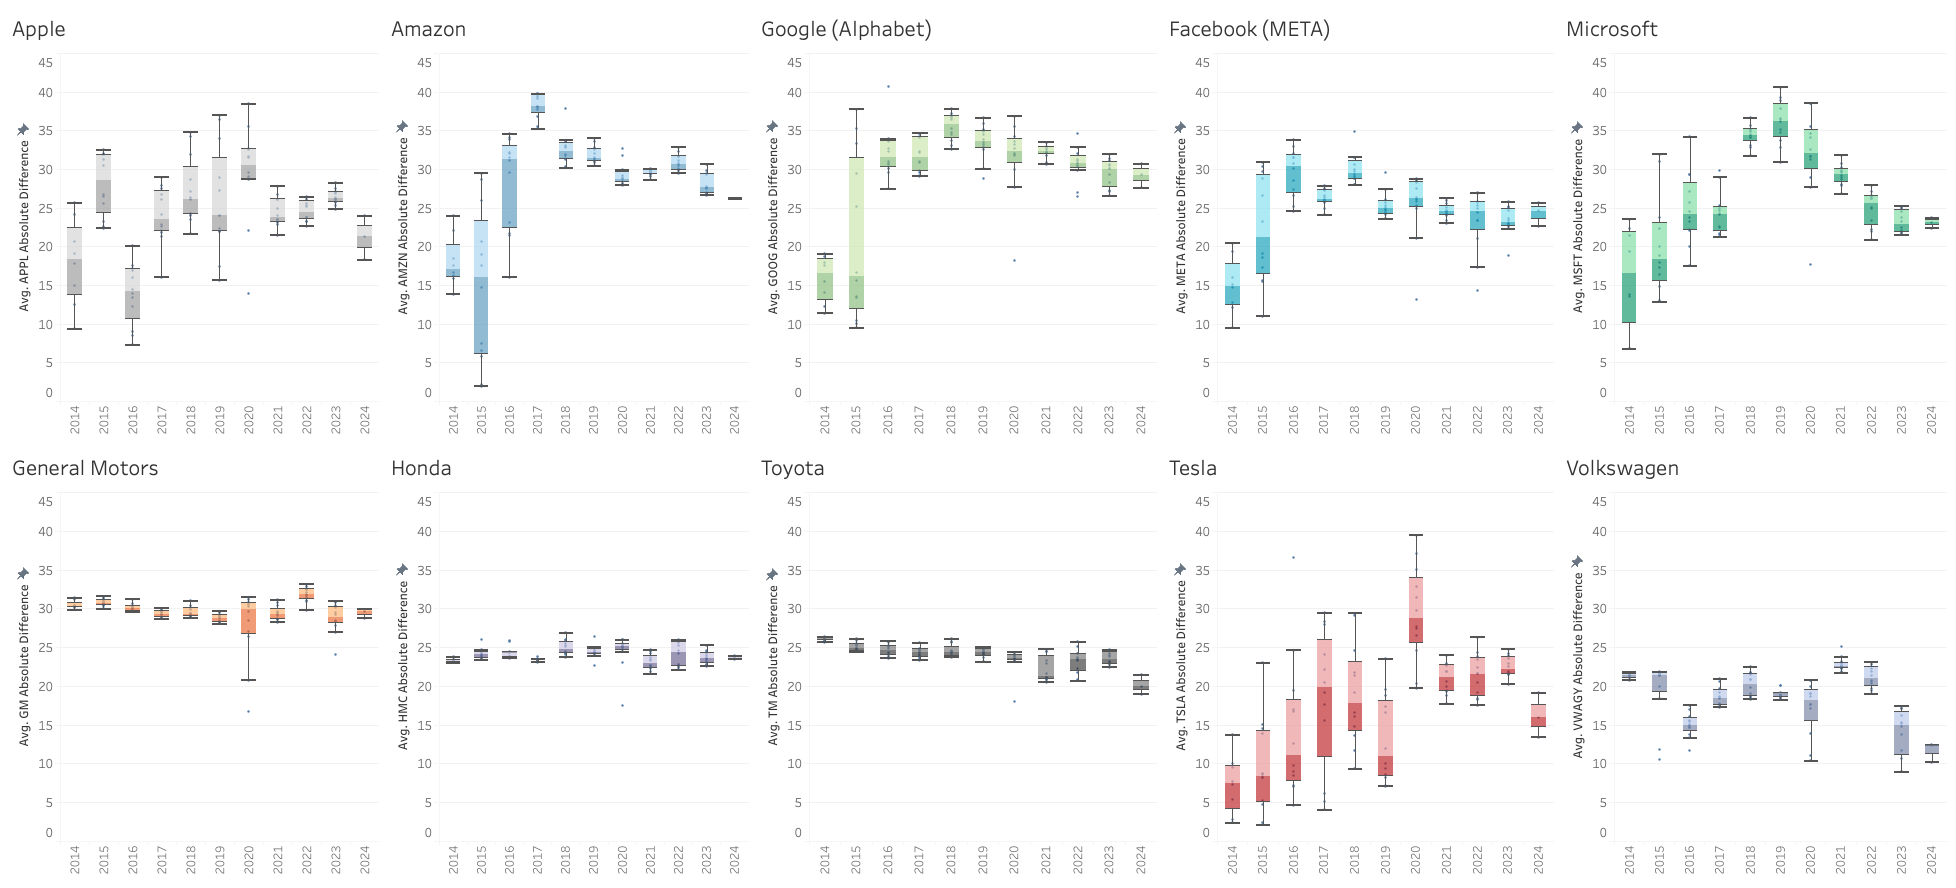

This screenshot's page, from the dashboard's own definition file:
{"tool":"tableau","page":{"name":"Dashboard 1","canvas":[1000,1000],"units":"permille","ordinal":0},"visuals":[{"type":"worksheet","title":"Apple","mark":"Circle","rows":["Calculation_1771744257438670848"],"cols":["date"],"box":[4.1,8.9,193.1,491.1]},{"type":"worksheet","title":"Amazon","mark":"Circle","rows":["Calculation_1771744257711570946"],"cols":["date (AMZN_predicted_data.csv)"],"box":[197.1,8.9,188.5,491.1]},{"type":"worksheet","title":"Google (Alphabet)","mark":"Circle","rows":["Calculation_1771744257744744452"],"cols":["date (GOOG_predicted_data.csv)"],"box":[385.6,8.9,207.8,491.1]},{"type":"worksheet","title":"Facebook (META)","mark":"Circle","rows":["Calculation_1771744257752223750"],"cols":["date (META_predicted_data.csv)"],"box":[593.5,8.9,202.2,491.1]},{"type":"worksheet","title":"Microsoft","mark":"Circle","rows":["Calculation_1771744257752530951"],"cols":["date (MSFT_predicted_data.csv)"],"box":[795.7,8.9,200.2,491.1]},{"type":"worksheet","title":"General Motors","mark":"Circle","rows":["Calculation_1771744257728196611"],"cols":["date (GM_predicted_data.csv)"],"box":[4.1,500,193.1,491.1]},{"type":"worksheet","title":"Honda","mark":"Circle","rows":["Calculation_1771744257751900165"],"cols":["date (HMC_predicted_data.csv)"],"box":[197.1,500,188.5,491.1]},{"type":"worksheet","title":"Toyota","mark":"Circle","rows":["Calculation_1771744257752793096"],"cols":["date (TM_predicted_data.csv)"],"box":[385.6,500,207.8,491.1]},{"type":"worksheet","title":"Tesla","mark":"Circle","rows":["Calculation_1771744257752887305"],"cols":["date (TSLA_predicted_data.csv)"],"box":[593.5,500,202.2,491.1]},{"type":"worksheet","title":"Volkswagen","mark":"Circle","rows":["Calculation_1771744257752973322"],"cols":["date (VWAGY_predicted_data.csv)"],"box":[795.7,500,200.2,491.1]}]}

Visuals, with their boxes on the dashboard's canvas, which has no fixed pixel size, in thousandths of its width and height (x1, y1, x2, y2). These are canvas units, not pixel positions in the 1956x888 screenshot, which may show the page scaled, cropped or inside an application window:
"Apple" worksheet (Circle marks): {"x1": 4, "y1": 9, "x2": 197, "y2": 500}
"Amazon" worksheet (Circle marks): {"x1": 197, "y1": 9, "x2": 386, "y2": 500}
"Google (Alphabet)" worksheet (Circle marks): {"x1": 386, "y1": 9, "x2": 593, "y2": 500}
"Facebook (META)" worksheet (Circle marks): {"x1": 594, "y1": 9, "x2": 796, "y2": 500}
"Microsoft" worksheet (Circle marks): {"x1": 796, "y1": 9, "x2": 996, "y2": 500}
"General Motors" worksheet (Circle marks): {"x1": 4, "y1": 500, "x2": 197, "y2": 991}
"Honda" worksheet (Circle marks): {"x1": 197, "y1": 500, "x2": 386, "y2": 991}
"Toyota" worksheet (Circle marks): {"x1": 386, "y1": 500, "x2": 593, "y2": 991}
"Tesla" worksheet (Circle marks): {"x1": 594, "y1": 500, "x2": 796, "y2": 991}
"Volkswagen" worksheet (Circle marks): {"x1": 796, "y1": 500, "x2": 996, "y2": 991}
